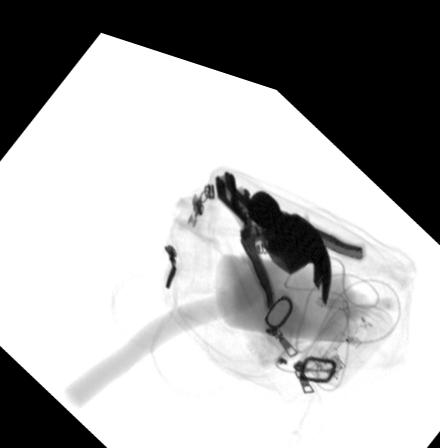Hammer: (63, 172, 331, 403)
Pliers: (213, 156, 366, 289)
